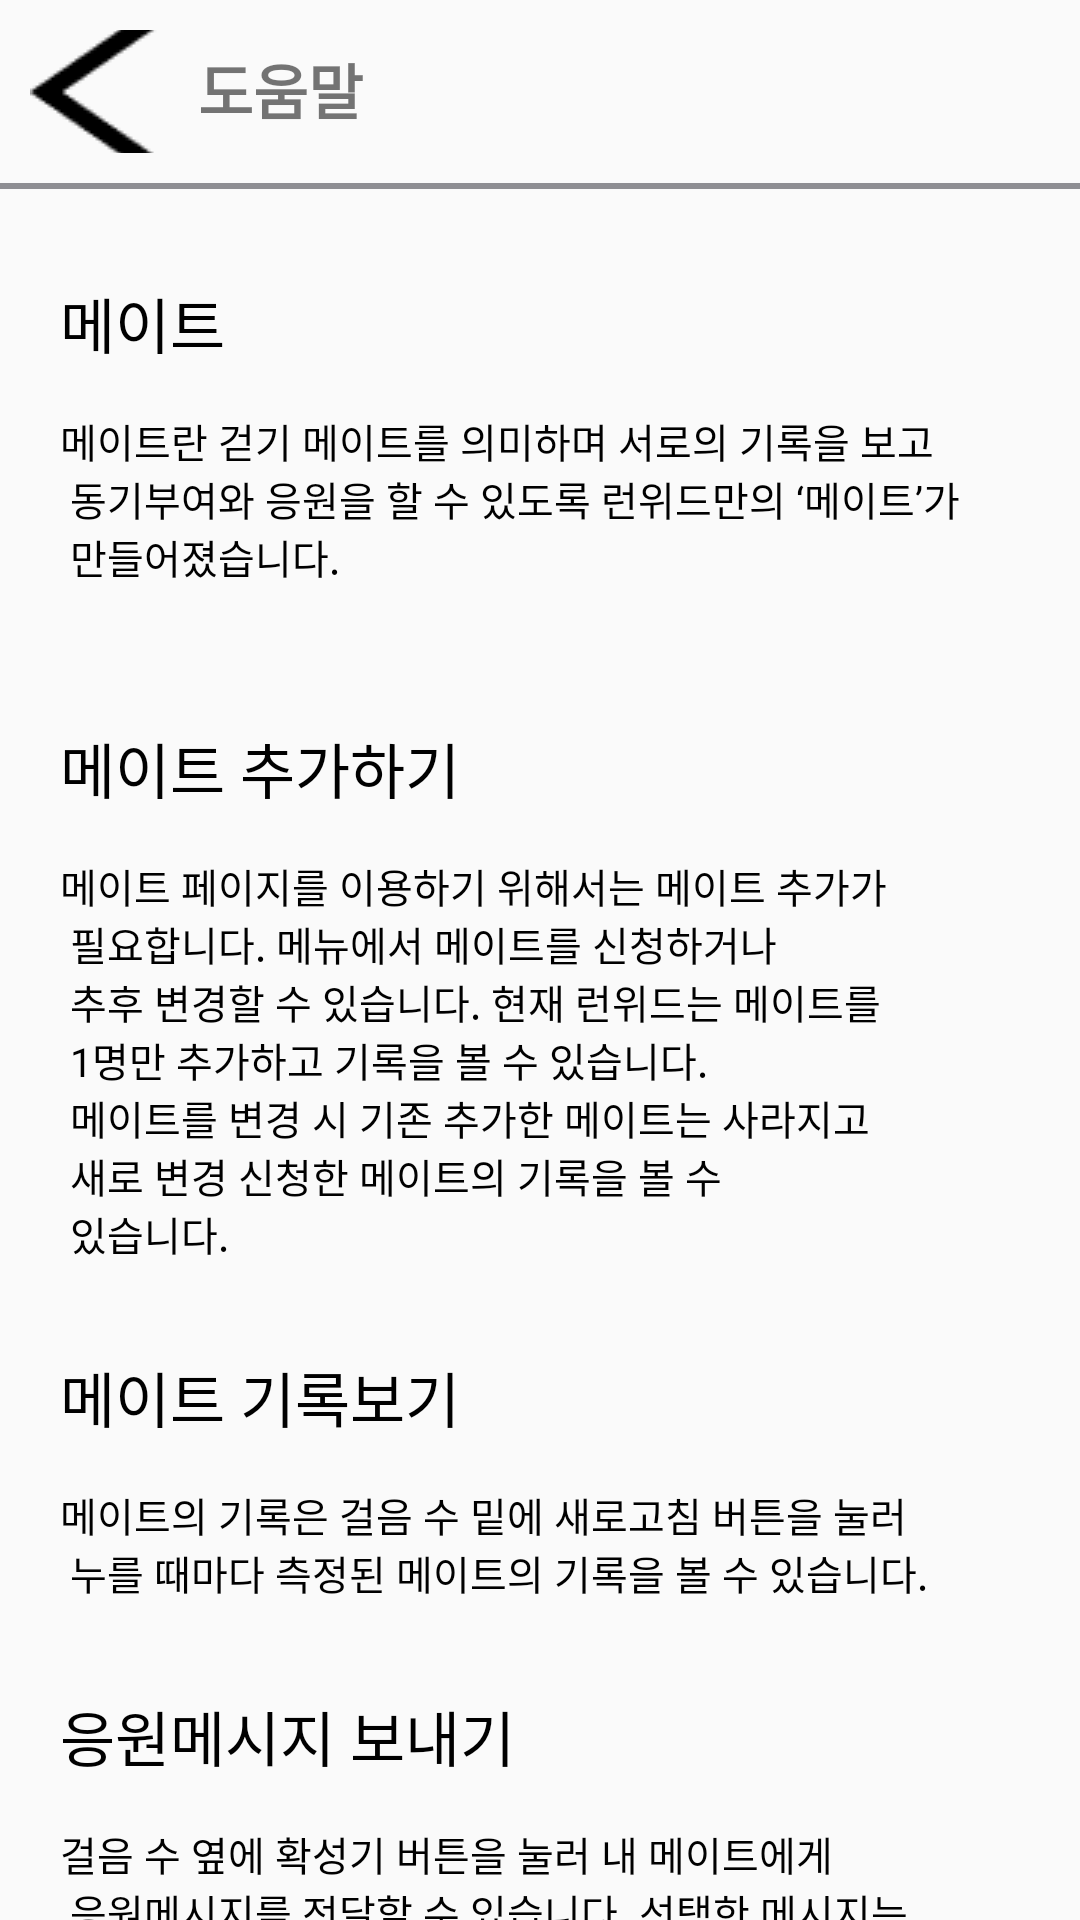

Where icons sit on this 1080 x 1920 app screen, as (x1, y1, x2, y2):
back: (30, 30, 154, 153)
